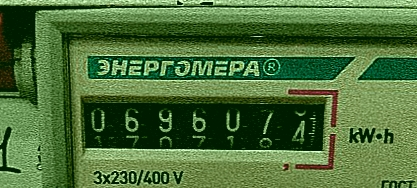0: (87, 105, 108, 134), (224, 104, 242, 133), (123, 106, 140, 132)
4: (290, 118, 307, 146)
6: (189, 104, 207, 134)
7: (257, 106, 275, 135)
9: (156, 105, 174, 133)
screen: (66, 82, 341, 170)
